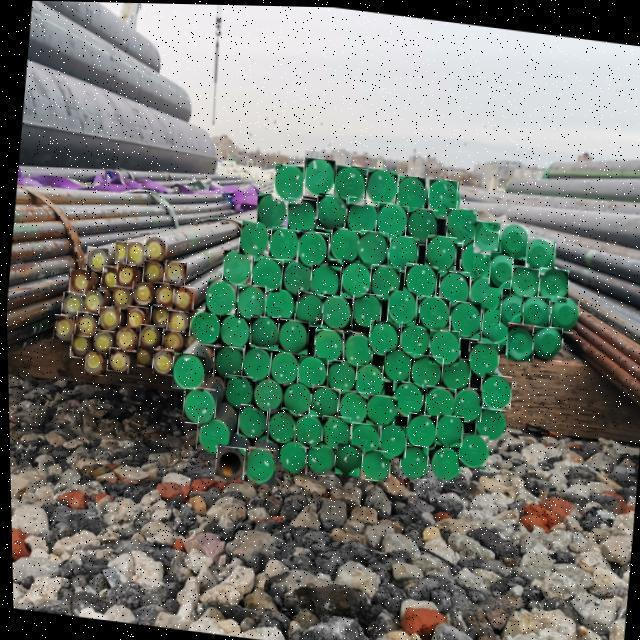pipe: (343, 194, 378, 236), (331, 163, 366, 204), (169, 351, 204, 391), (180, 385, 215, 425), (467, 273, 502, 312), (373, 200, 408, 239), (404, 205, 438, 245), (401, 261, 437, 298), (194, 415, 229, 453), (402, 410, 437, 448), (458, 239, 492, 278), (423, 232, 456, 272), (477, 371, 511, 409), (278, 257, 312, 295), (364, 166, 397, 205), (302, 157, 334, 197), (266, 225, 299, 263), (385, 232, 418, 270), (216, 312, 249, 350), (249, 254, 281, 293), (327, 226, 361, 262), (203, 278, 236, 315), (449, 299, 480, 338), (427, 177, 457, 217), (275, 317, 308, 353), (296, 230, 328, 267), (450, 384, 482, 421), (256, 192, 287, 230), (339, 259, 370, 297), (212, 444, 243, 482), (188, 309, 220, 345), (237, 219, 269, 255), (498, 221, 529, 258), (357, 228, 387, 266), (243, 445, 273, 483), (396, 173, 425, 212), (428, 444, 460, 479), (508, 262, 540, 297), (445, 206, 476, 242), (262, 287, 293, 323), (292, 290, 323, 326), (350, 290, 381, 326), (398, 320, 429, 356), (220, 372, 251, 408), (335, 387, 366, 423), (221, 248, 251, 285), (273, 164, 303, 201), (456, 430, 486, 467), (286, 197, 316, 234), (369, 263, 399, 300), (438, 268, 468, 305), (239, 344, 269, 381), (264, 407, 294, 444), (367, 319, 398, 354), (251, 376, 282, 411), (267, 349, 298, 384), (409, 352, 440, 387), (422, 383, 453, 418), (306, 383, 337, 418), (315, 194, 345, 230), (309, 262, 339, 298), (386, 288, 416, 324), (296, 354, 326, 390), (479, 306, 508, 343), (525, 234, 554, 271), (505, 321, 533, 359), (472, 405, 504, 438), (358, 446, 389, 480), (467, 340, 497, 375), (418, 295, 448, 330), (428, 328, 458, 363), (236, 403, 266, 438), (380, 347, 410, 382), (440, 354, 470, 389), (280, 380, 310, 415), (531, 324, 561, 359), (348, 420, 377, 456), (276, 437, 306, 471), (325, 359, 355, 393), (354, 363, 384, 397), (364, 392, 394, 426), (342, 331, 371, 366), (391, 380, 420, 415), (538, 265, 567, 300), (236, 284, 264, 320), (549, 294, 577, 330), (322, 295, 352, 328), (304, 440, 333, 474), (433, 411, 462, 445), (320, 414, 349, 448), (376, 422, 405, 456), (249, 314, 277, 348), (313, 328, 341, 362), (212, 345, 241, 377), (398, 444, 426, 477), (521, 294, 548, 328), (488, 249, 512, 287), (293, 414, 320, 447), (332, 442, 358, 474), (473, 219, 498, 252), (497, 292, 521, 326), (72, 310, 96, 338), (170, 284, 193, 313), (59, 291, 83, 317), (113, 262, 136, 289), (162, 259, 185, 286), (98, 264, 120, 292), (143, 236, 165, 264), (84, 246, 107, 272), (80, 288, 103, 314), (67, 269, 90, 294), (105, 347, 128, 372), (130, 280, 152, 306), (124, 305, 146, 331), (82, 350, 104, 375), (91, 328, 113, 353), (51, 314, 72, 340), (114, 325, 135, 351), (151, 348, 172, 374), (153, 281, 173, 308), (159, 328, 182, 351), (148, 303, 170, 327), (164, 309, 186, 333), (97, 306, 118, 331), (124, 240, 144, 266), (141, 259, 162, 283), (111, 285, 132, 309), (138, 324, 159, 348), (68, 335, 89, 359), (113, 240, 129, 264), (134, 345, 151, 366)
